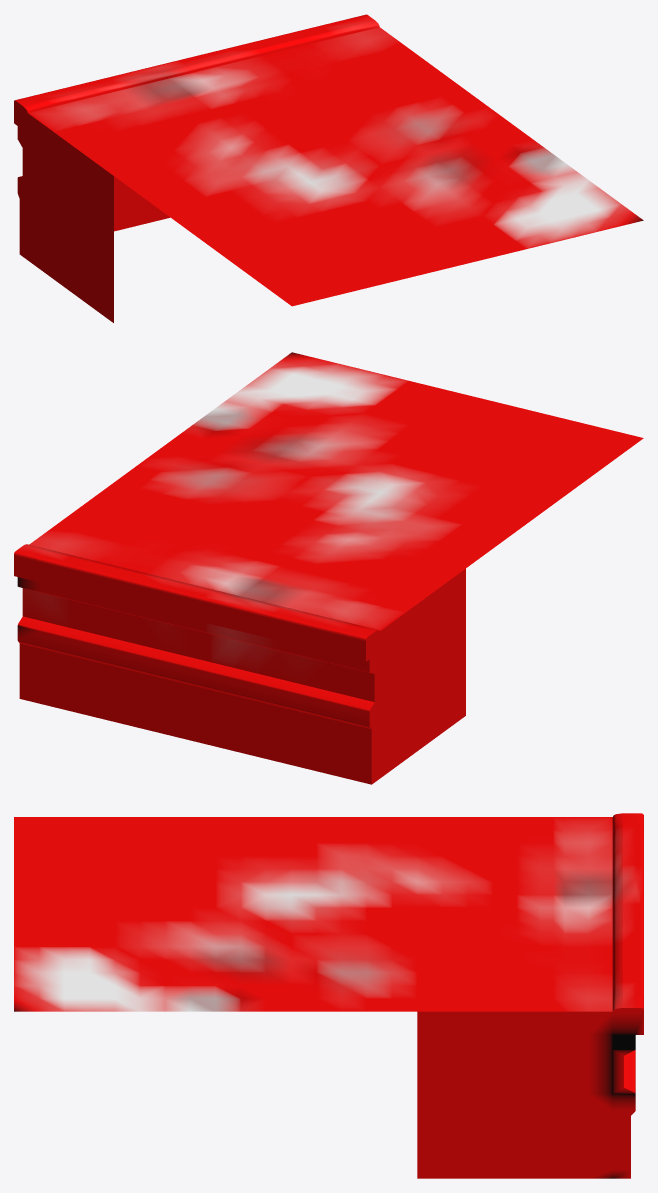
3 views of the same model, one above another, from view 1: azimuth 30°, elevation 25°; view 2: azimuth 150°, elevation 25°; view 3: azimuth 270°, elevation 25° (orthographic). The views are drawn at different scales.
Parts seen in each view (by area): view 1: SM_Floor_Platform_01_LOD0; view 2: SM_Floor_Platform_01_LOD0; view 3: SM_Floor_Platform_01_LOD0.
Boxes of the visible parts, bbox=[...] form: SM_Floor_Platform_01_LOD0: bbox=[14, 14, 643, 322]; SM_Floor_Platform_01_LOD0: bbox=[14, 352, 643, 784]; SM_Floor_Platform_01_LOD0: bbox=[14, 813, 643, 1178].
Bounding box in the file's own units: 500 × 684 × 205.
